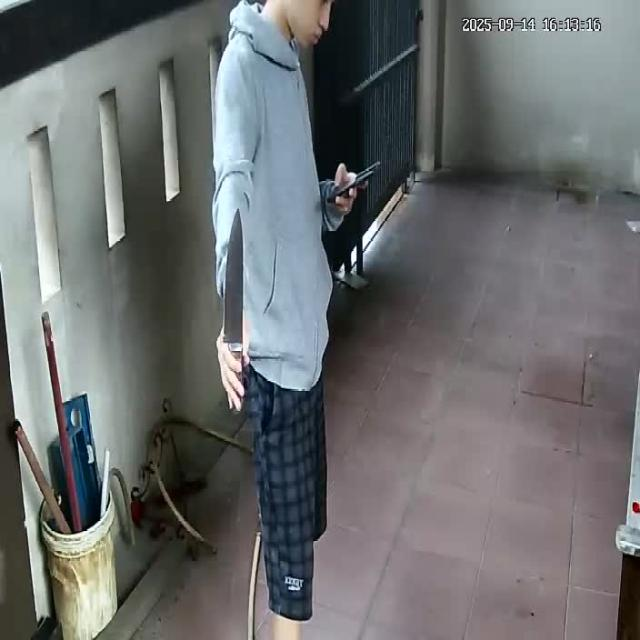senjata_tajam: (220, 203, 248, 347)
